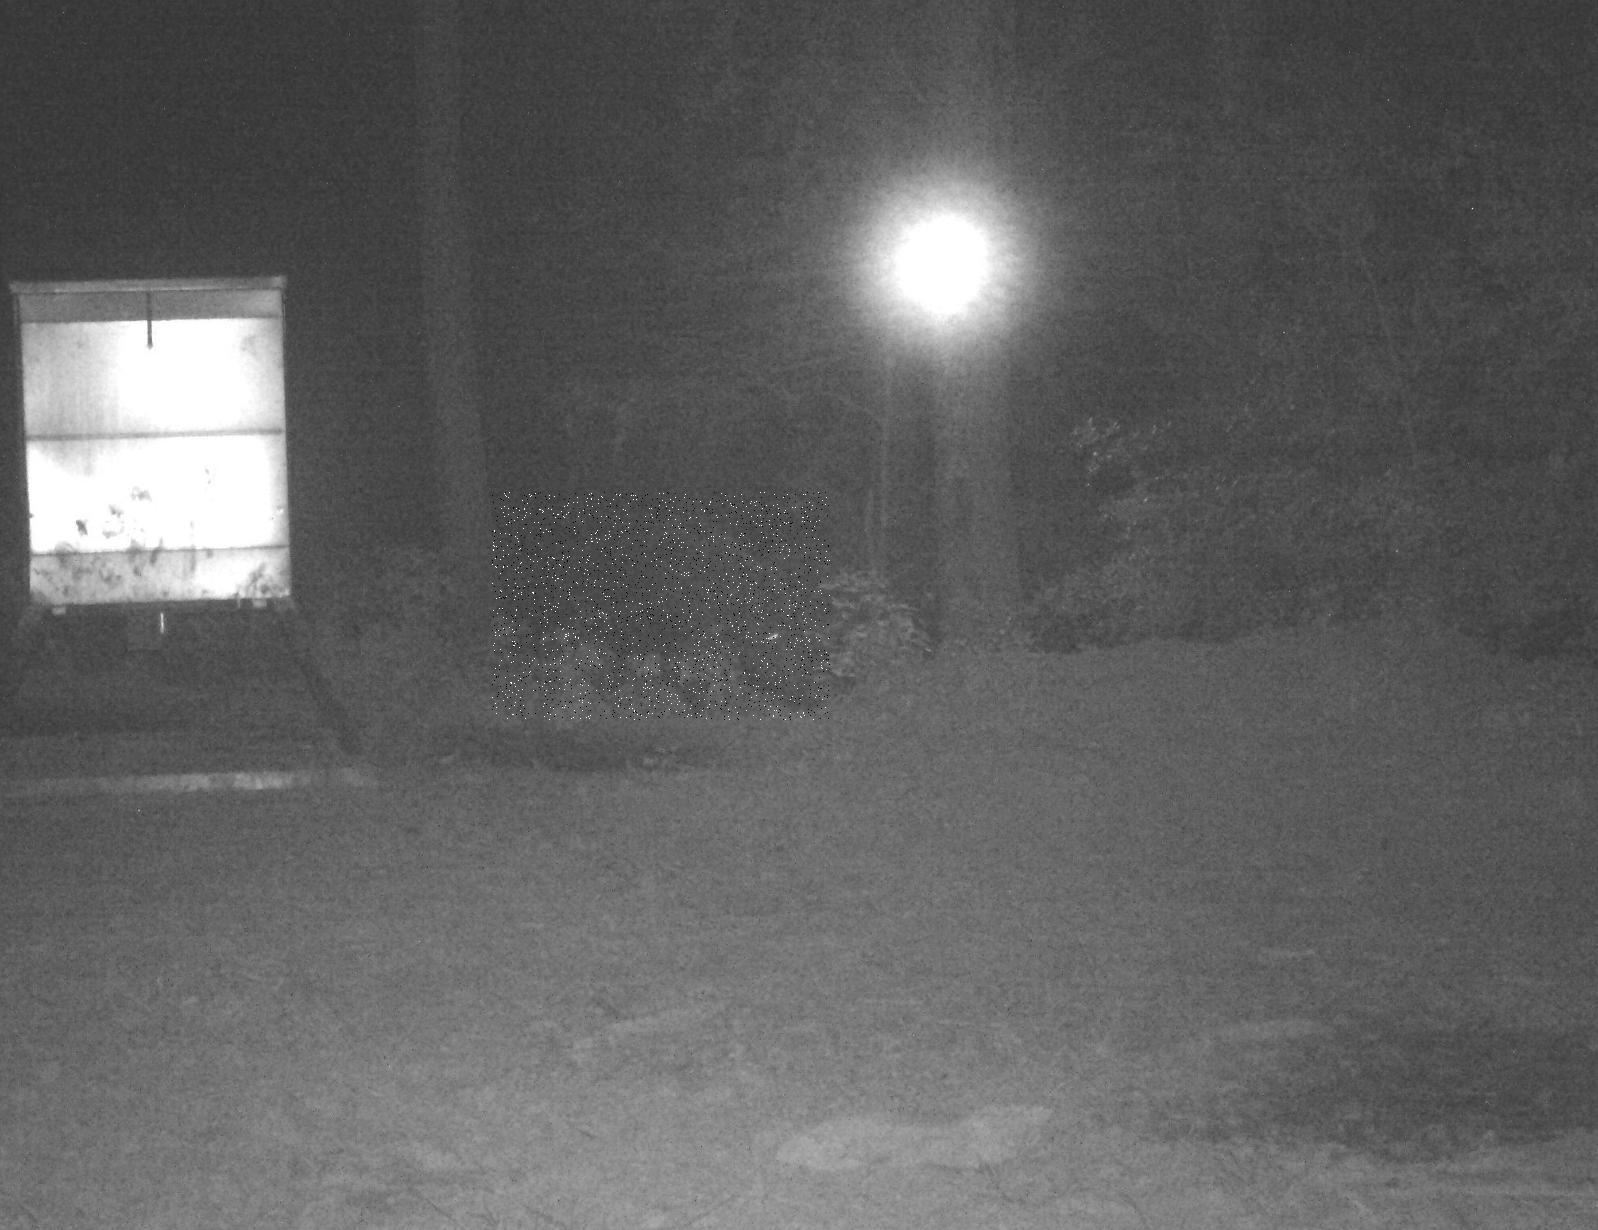Hog: (492, 492, 829, 720)
